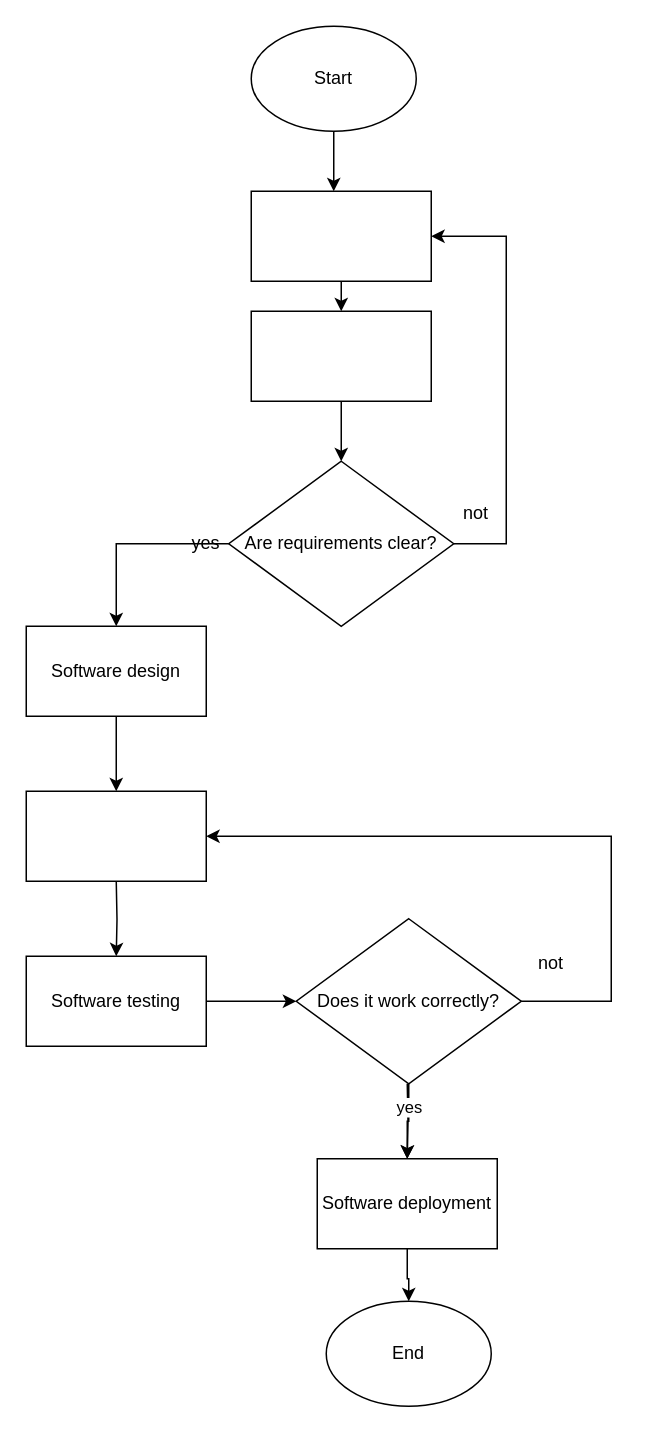
Image size: 650x1433. Some labels were removed from this diagram. Each missing label, with the box of its shape:
Coding / Development: (25, 790, 206, 881)
Gather requirements: (250, 190, 431, 281)
Requirements analysis: (250, 310, 431, 401)
